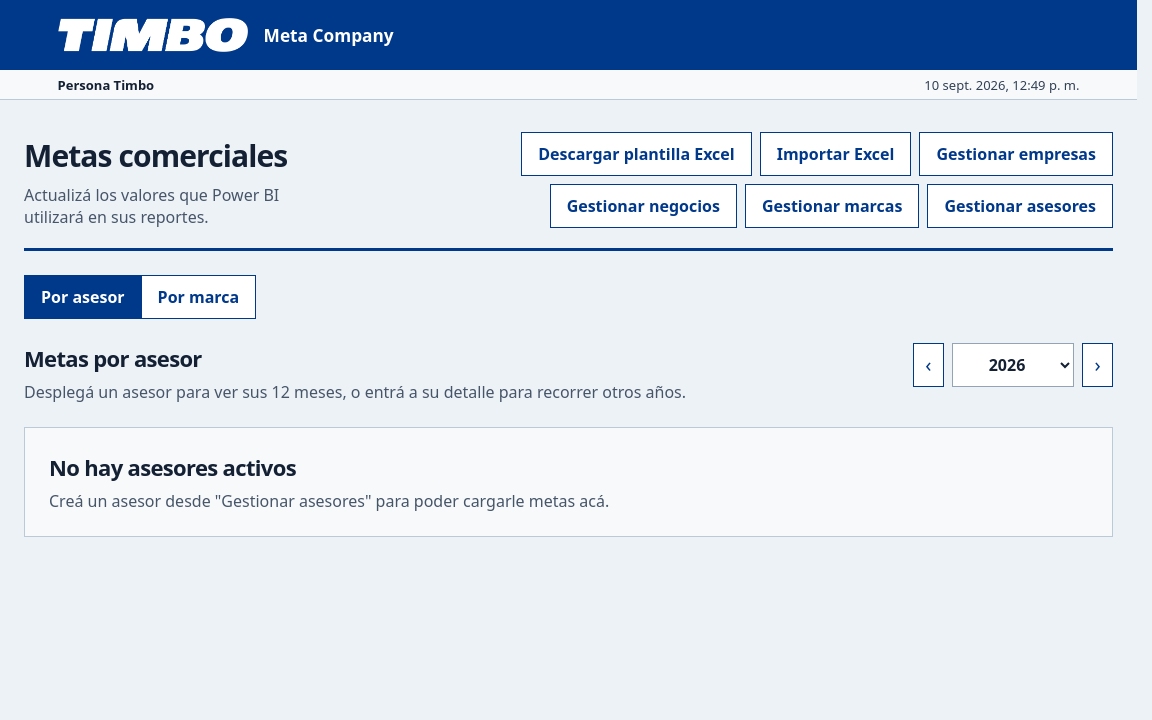
it: MetaCompanyApplication — metas por marca › abre el importador Excel para quien puede gestionar metas
Click the button "Importar Excel": x=836, y=154 [760,132,911,176]
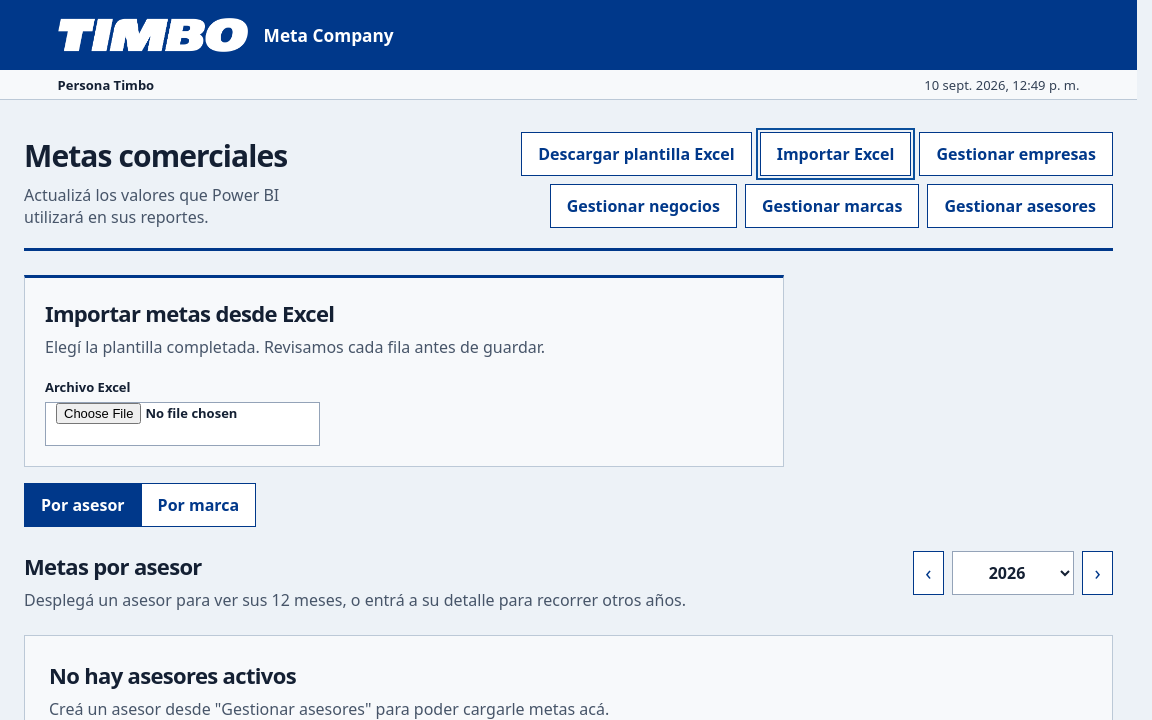
Expected: the heading "Importar metas desde Excel" is shown, [45,298,334,328]
